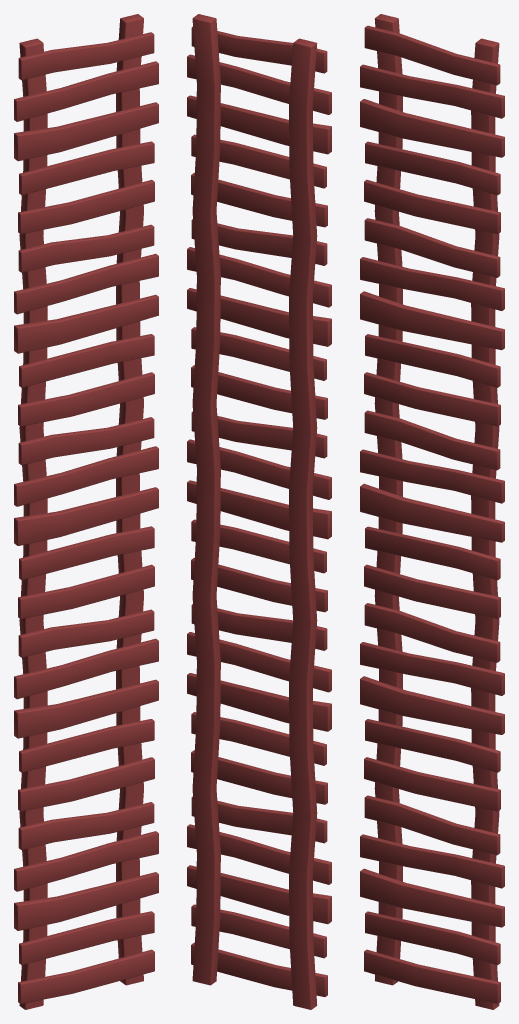
The model's file is echelle_5blocs.fbx.
3 renders of one model, left to right at view 1: azimuth 30°, elevation 25°; view 2: azimuth 150°, elevation 25°; view 3: azimuth 330°, elevation 25°, orthographic.
Parts seen in each view (by area): view 1: echelle_05_part01, echelle_05_part04, echelle_05_part20, echelle_05_part25, echelle_05_part10, echelle_05_part15, echelle_05_part16, echelle_05_part05, echelle_05_part26, echelle_05_part21, echelle_05_part11, echelle_05_part02 (+14 smaller); view 2: echelle_05_part01, echelle_05_part20, echelle_05_part15, echelle_05_part25, echelle_05_part04, echelle_05_part10, echelle_05_part21, echelle_05_part11, echelle_05_part26, echelle_05_part16, echelle_05_part05, echelle_05_part08 (+14 smaller); view 3: echelle_05_part01, echelle_05_part15, echelle_05_part04, echelle_05_part20, echelle_05_part10, echelle_05_part25, echelle_05_part21, echelle_05_part16, echelle_05_part05, echelle_05_part11, echelle_05_part26, echelle_05_part08 (+14 smaller).
Boxes of the visible parts, x1,y1,x2,y2 form: echelle_05_part01: (19, 14, 143, 1009); echelle_05_part04: (14, 872, 158, 930); echelle_05_part20: (14, 294, 158, 353); echelle_05_part25: (14, 102, 158, 161); echelle_05_part10: (14, 679, 158, 738); echelle_05_part15: (14, 487, 158, 545); echelle_05_part16: (14, 446, 158, 506); echelle_05_part05: (14, 831, 158, 891); echelle_05_part26: (14, 61, 158, 121); echelle_05_part21: (14, 253, 158, 314); echelle_05_part11: (14, 638, 158, 699); echelle_05_part02: (18, 949, 154, 1003); echelle_05_part01: (192, 14, 317, 1009); echelle_05_part20: (187, 288, 331, 346); echelle_05_part15: (187, 480, 331, 539); echelle_05_part25: (187, 95, 331, 154); echelle_05_part04: (187, 865, 331, 924); echelle_05_part10: (187, 673, 331, 731); echelle_05_part21: (187, 247, 331, 307); echelle_05_part11: (187, 632, 331, 692); echelle_05_part26: (187, 54, 331, 114); echelle_05_part16: (187, 439, 331, 499); echelle_05_part05: (187, 824, 331, 884); echelle_05_part08: (191, 750, 327, 804); echelle_05_part01: (374, 14, 499, 1009); echelle_05_part15: (360, 483, 504, 542); echelle_05_part04: (360, 868, 504, 927); echelle_05_part20: (360, 291, 504, 350); echelle_05_part10: (360, 676, 504, 734); echelle_05_part25: (360, 99, 504, 157); echelle_05_part21: (360, 257, 504, 310); echelle_05_part16: (360, 449, 504, 503); echelle_05_part05: (360, 834, 504, 888); echelle_05_part11: (360, 642, 504, 695); echelle_05_part26: (360, 64, 504, 118); echelle_05_part08: (364, 757, 500, 811).
Size of the model in its own units: 1.55 by 10.01 by 0.1855.
